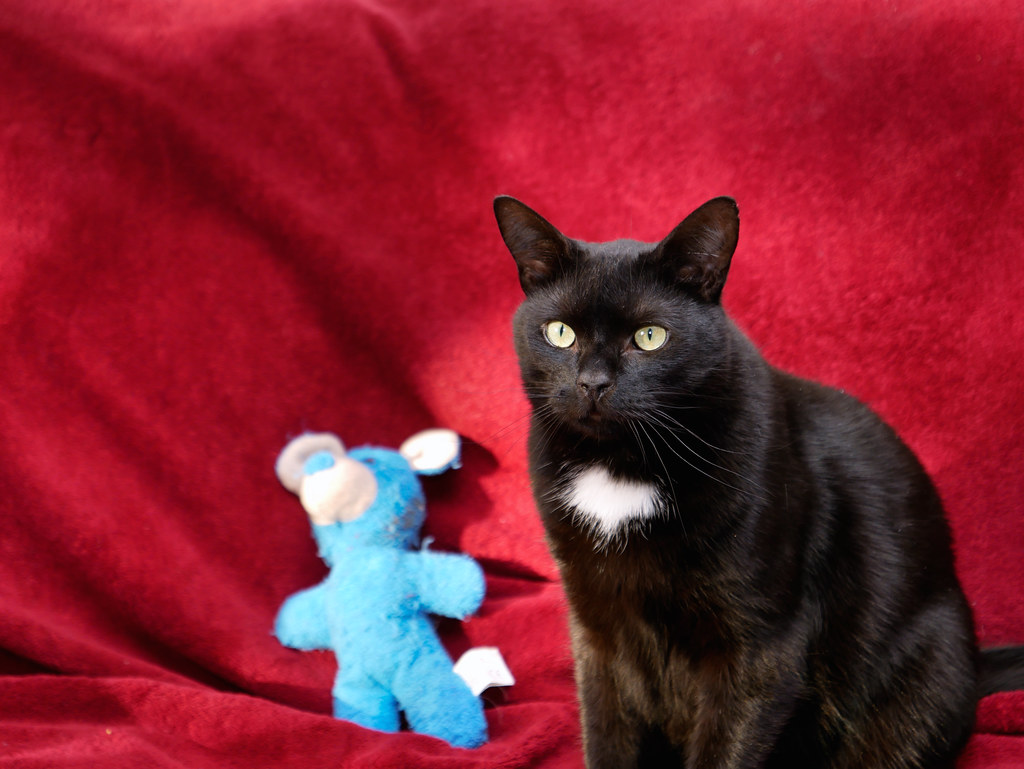cat: (455, 165, 1024, 769)
